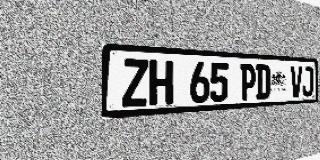5: (210, 62, 228, 102)
6: (190, 61, 210, 103)
D: (256, 64, 270, 100)
H: (149, 60, 173, 106)
J: (302, 66, 313, 97)
P: (240, 64, 256, 101)
V: (290, 66, 302, 98)
Z: (122, 58, 148, 107)
